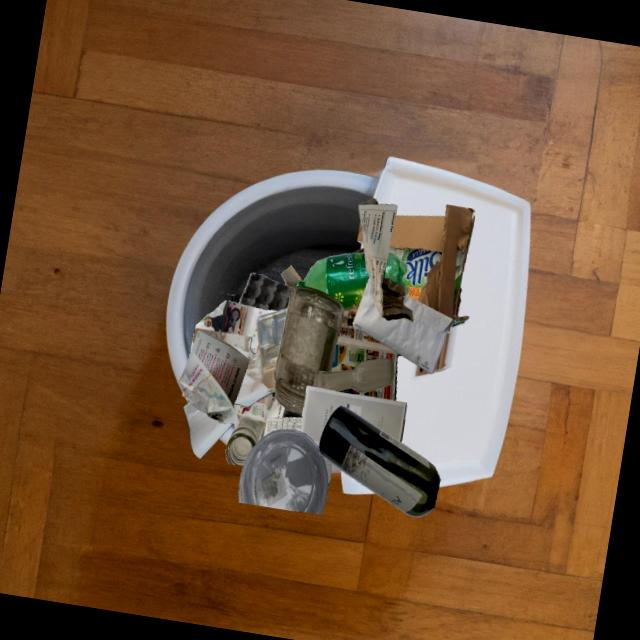cardboard: (389, 205, 475, 333), (239, 273, 294, 311), (281, 266, 303, 287)
glass: (319, 406, 440, 517), (274, 286, 344, 415), (314, 358, 394, 393), (226, 414, 266, 467), (352, 248, 364, 253), (328, 477, 331, 489)
paper: (352, 276, 452, 374), (358, 198, 413, 322), (177, 330, 249, 424), (192, 328, 276, 408), (301, 385, 407, 446), (331, 310, 402, 401), (195, 301, 279, 352), (202, 344, 238, 424), (195, 340, 259, 372), (233, 392, 287, 422), (263, 417, 302, 437)
plastic: (238, 430, 328, 515), (294, 253, 370, 311), (256, 308, 288, 373), (303, 278, 306, 282)
